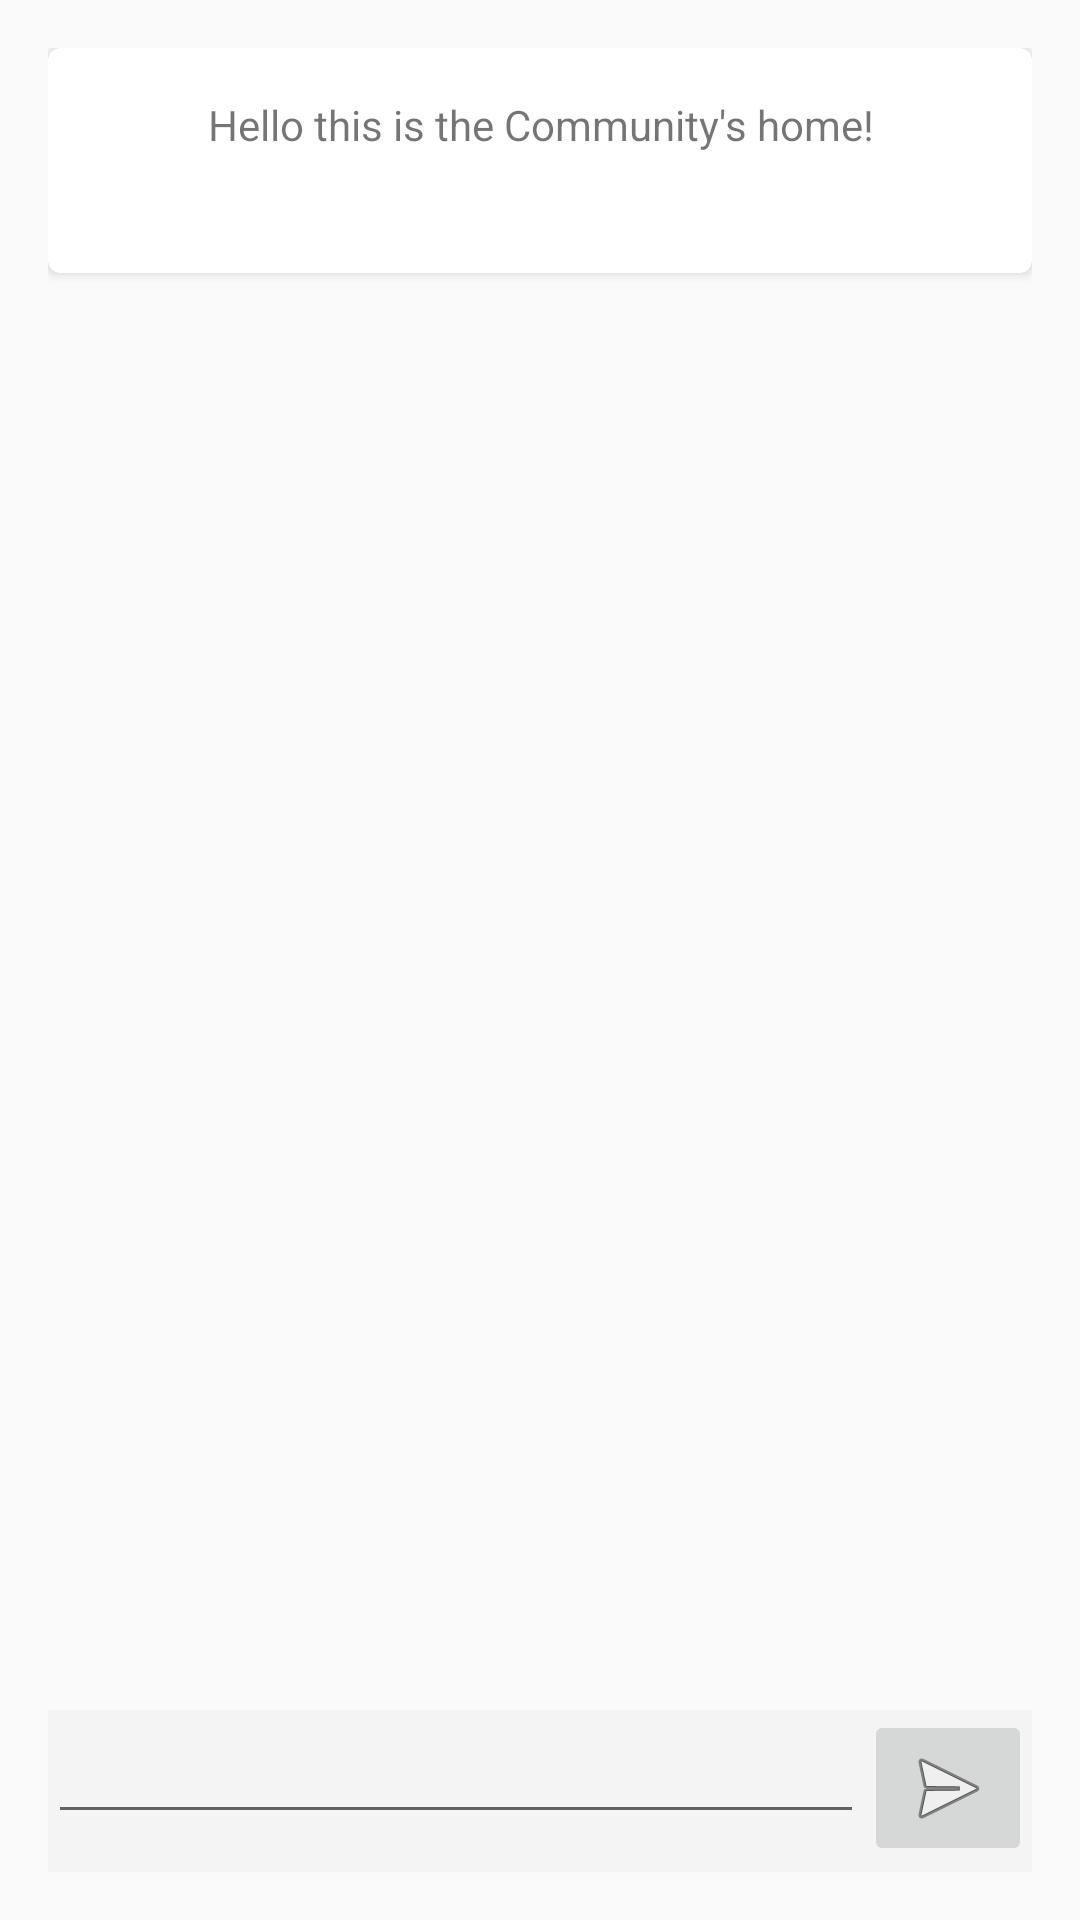

Named icons in this screenshot (1080 × 1920) and their bounding boxes, (x1, y1, x2, y2):
send: (876, 1728, 1020, 1848)
